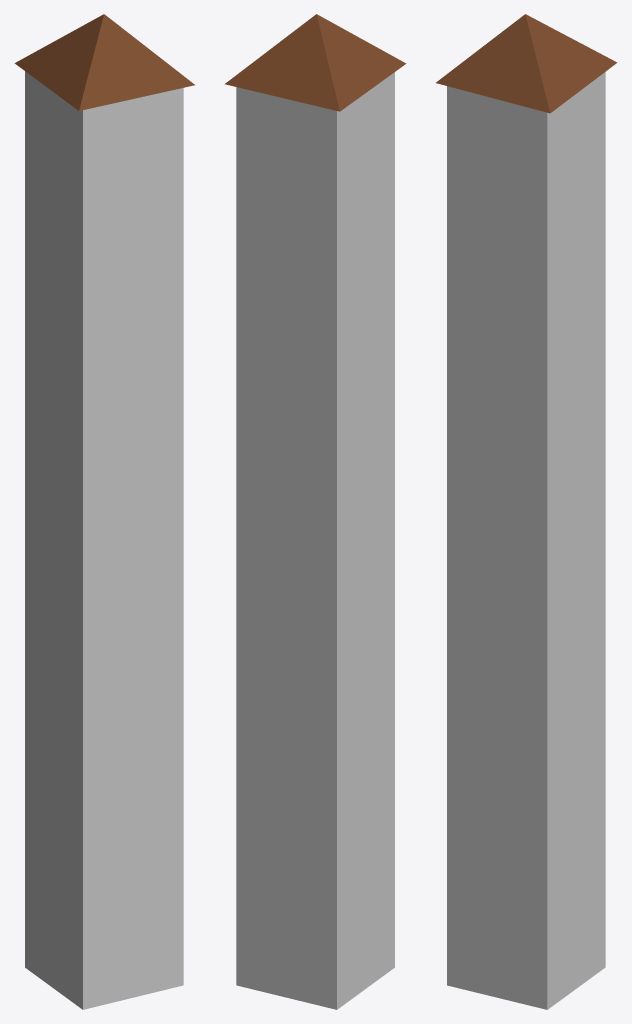
File: prop_fence_post_a.glb
The picture shows the model from 3 angles, left to right: view 1: azimuth 30°, elevation 25°; view 2: azimuth 150°, elevation 25°; view 3: azimuth 330°, elevation 25°; orthographic projection.
Parts seen in each view (by area): view 1: COL_prop_fence_post_a_1, prop_fence_post_a; view 2: COL_prop_fence_post_a_1, prop_fence_post_a; view 3: COL_prop_fence_post_a_1, prop_fence_post_a.
Part boxes in pixels (bbox=[...]): COL_prop_fence_post_a_1: bbox=[25, 71, 183, 1009]; prop_fence_post_a: bbox=[14, 14, 194, 110]; COL_prop_fence_post_a_1: bbox=[236, 72, 394, 1009]; prop_fence_post_a: bbox=[225, 14, 406, 111]; COL_prop_fence_post_a_1: bbox=[447, 72, 605, 1009]; prop_fence_post_a: bbox=[436, 14, 617, 113].
Size of the model in its own units: 0.161 by 1.28 by 0.1622.
